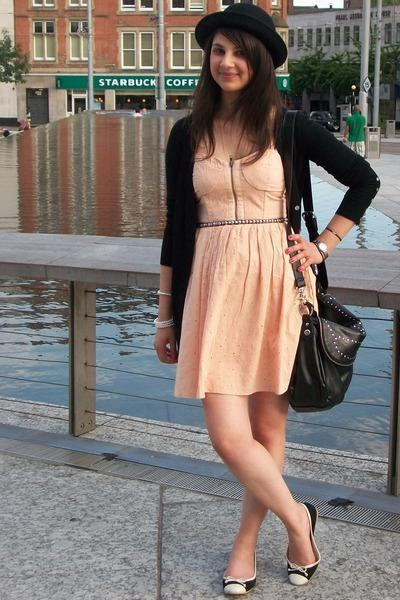bag: (284, 211, 374, 411)
dress: (174, 136, 317, 399)
hat: (195, 0, 286, 68)
jacket: (160, 94, 379, 347)
shoe: (225, 540, 318, 593)
